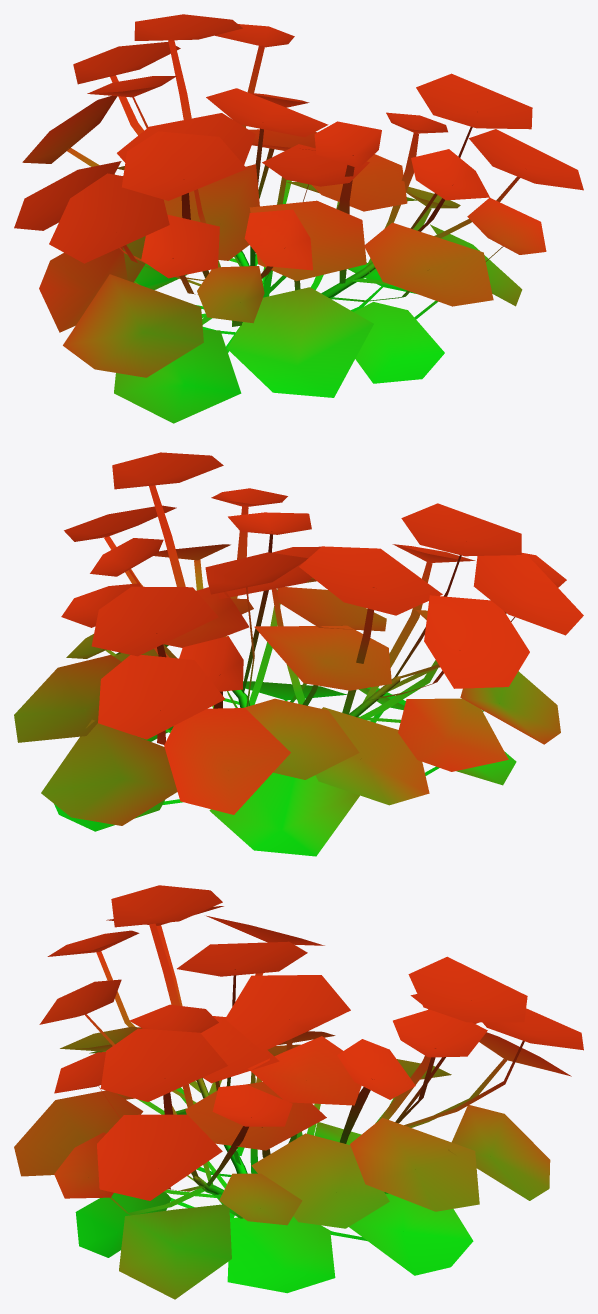
The model's file is Var10_LOD1.fbx.
3 renders of one model, top to bottom at view 1: azimuth 30°, elevation 25°; view 2: azimuth 150°, elevation 25°; view 3: azimuth 270°, elevation 25°, orthographic. The views are drawn at different scales.
Visible parts, largest first — view 1: _4659_Var10_LOD1; view 2: _4659_Var10_LOD1; view 3: _4659_Var10_LOD1.
Part boxes in pixels (<box>): _4659_Var10_LOD1: <box>14,14,583,423</box>; _4659_Var10_LOD1: <box>14,452,583,856</box>; _4659_Var10_LOD1: <box>14,885,583,1299</box>.
Bounding box in the file's own units: 45.91 × 22.72 × 43.63.
